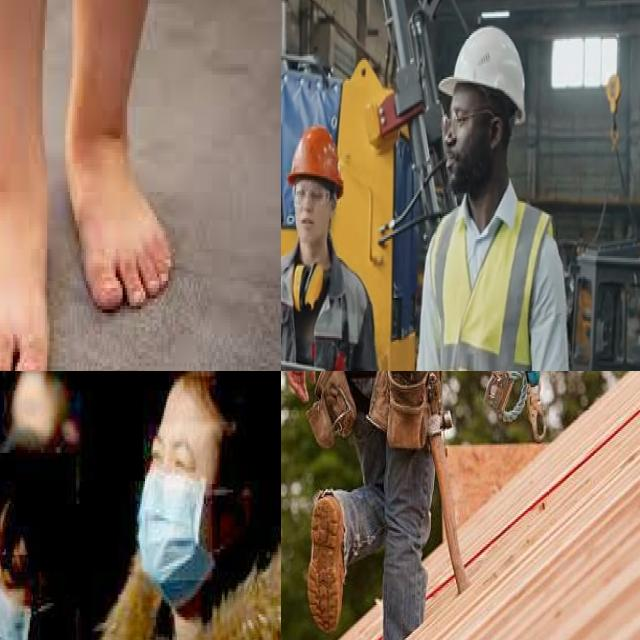Ear-protection: (289, 248, 327, 320)
Harness: (486, 371, 548, 442)
Sandals: (64, 104, 174, 309), (0, 141, 49, 371)
face_mask: (136, 424, 212, 580), (0, 554, 39, 640)
glasses: (287, 177, 337, 206), (437, 110, 479, 142)
head_helmet: (438, 23, 528, 127), (286, 123, 347, 188)
head_nohelmet: (154, 371, 236, 424)
person: (391, 13, 568, 371), (81, 371, 281, 640), (281, 126, 384, 371), (0, 452, 78, 640)
vest: (422, 197, 553, 371)
